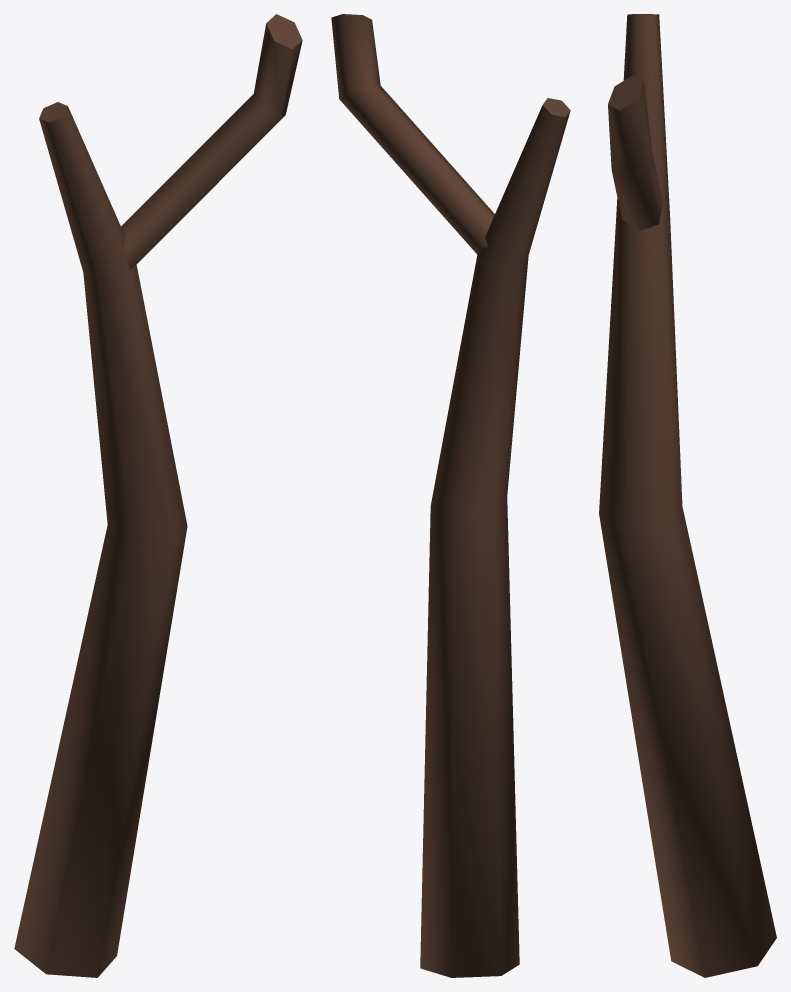
File: RoundTree_Chopped.fbx
3 views of the same model, side by side, from view 1: azimuth 30°, elevation 25°; view 2: azimuth 150°, elevation 25°; view 3: azimuth 270°, elevation 25° (orthographic). The views are drawn at different scales.
Visible parts, largest first — view 1: RoundTree_Chopped; view 2: RoundTree_Chopped; view 3: RoundTree_Chopped.
Part boxes in pixels (x1=…): RoundTree_Chopped: x1=14, y1=14, x2=302, y2=977; RoundTree_Chopped: x1=331, y1=14, x2=570, y2=977; RoundTree_Chopped: x1=599, y1=14, x2=776, y2=977.
Size of the model in its own units: 138 by 492 by 82.47.
